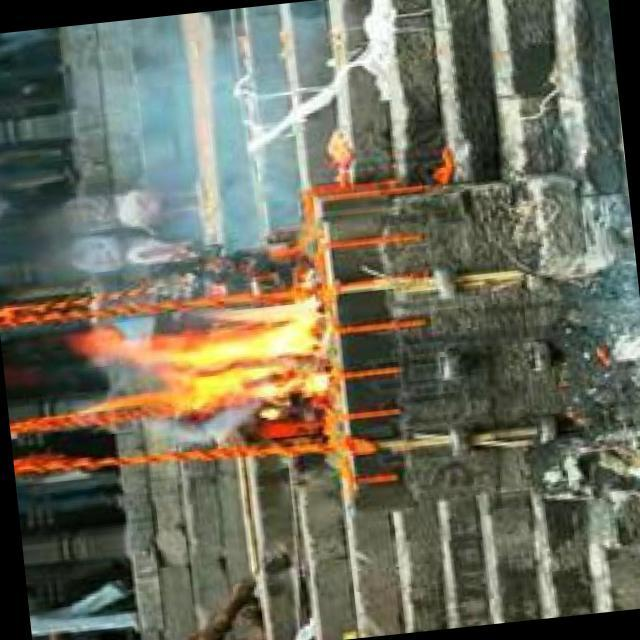Fire: (99, 281, 332, 420)
